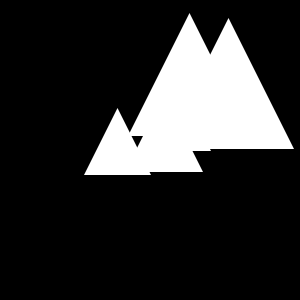triangle: (163, 18, 294, 149), (128, 13, 251, 136), (125, 94, 203, 172), (84, 108, 151, 175), (151, 91, 211, 151)
